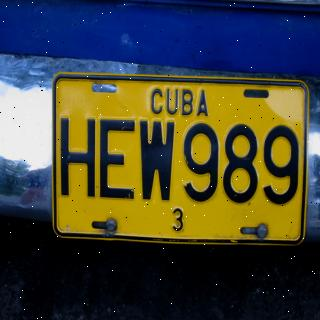license: (52, 73, 311, 248)
